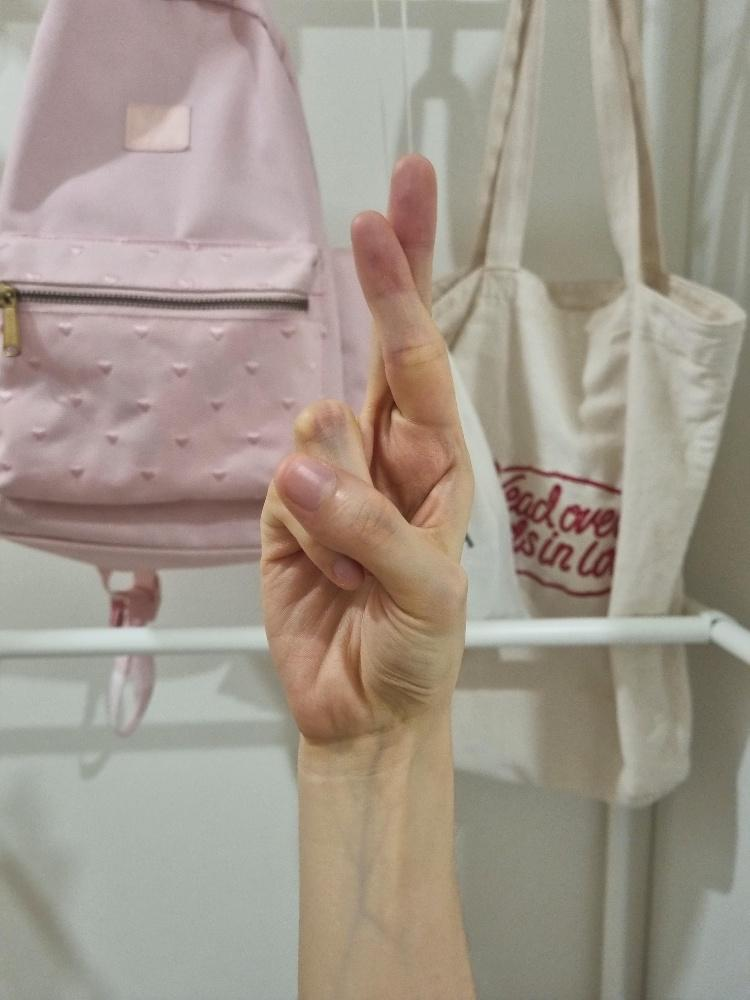r: (258, 151, 479, 740)
